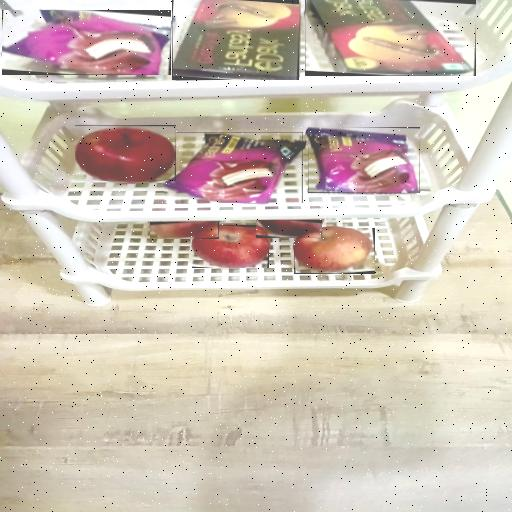Apple: (75, 125, 176, 181), (294, 228, 375, 274), (192, 225, 269, 268), (256, 220, 322, 238), (150, 222, 219, 239)
Choco Fills: (305, 0, 476, 76), (172, 0, 299, 80)
Choco Pie: (2, 10, 171, 75), (164, 132, 303, 203), (308, 127, 420, 193)
